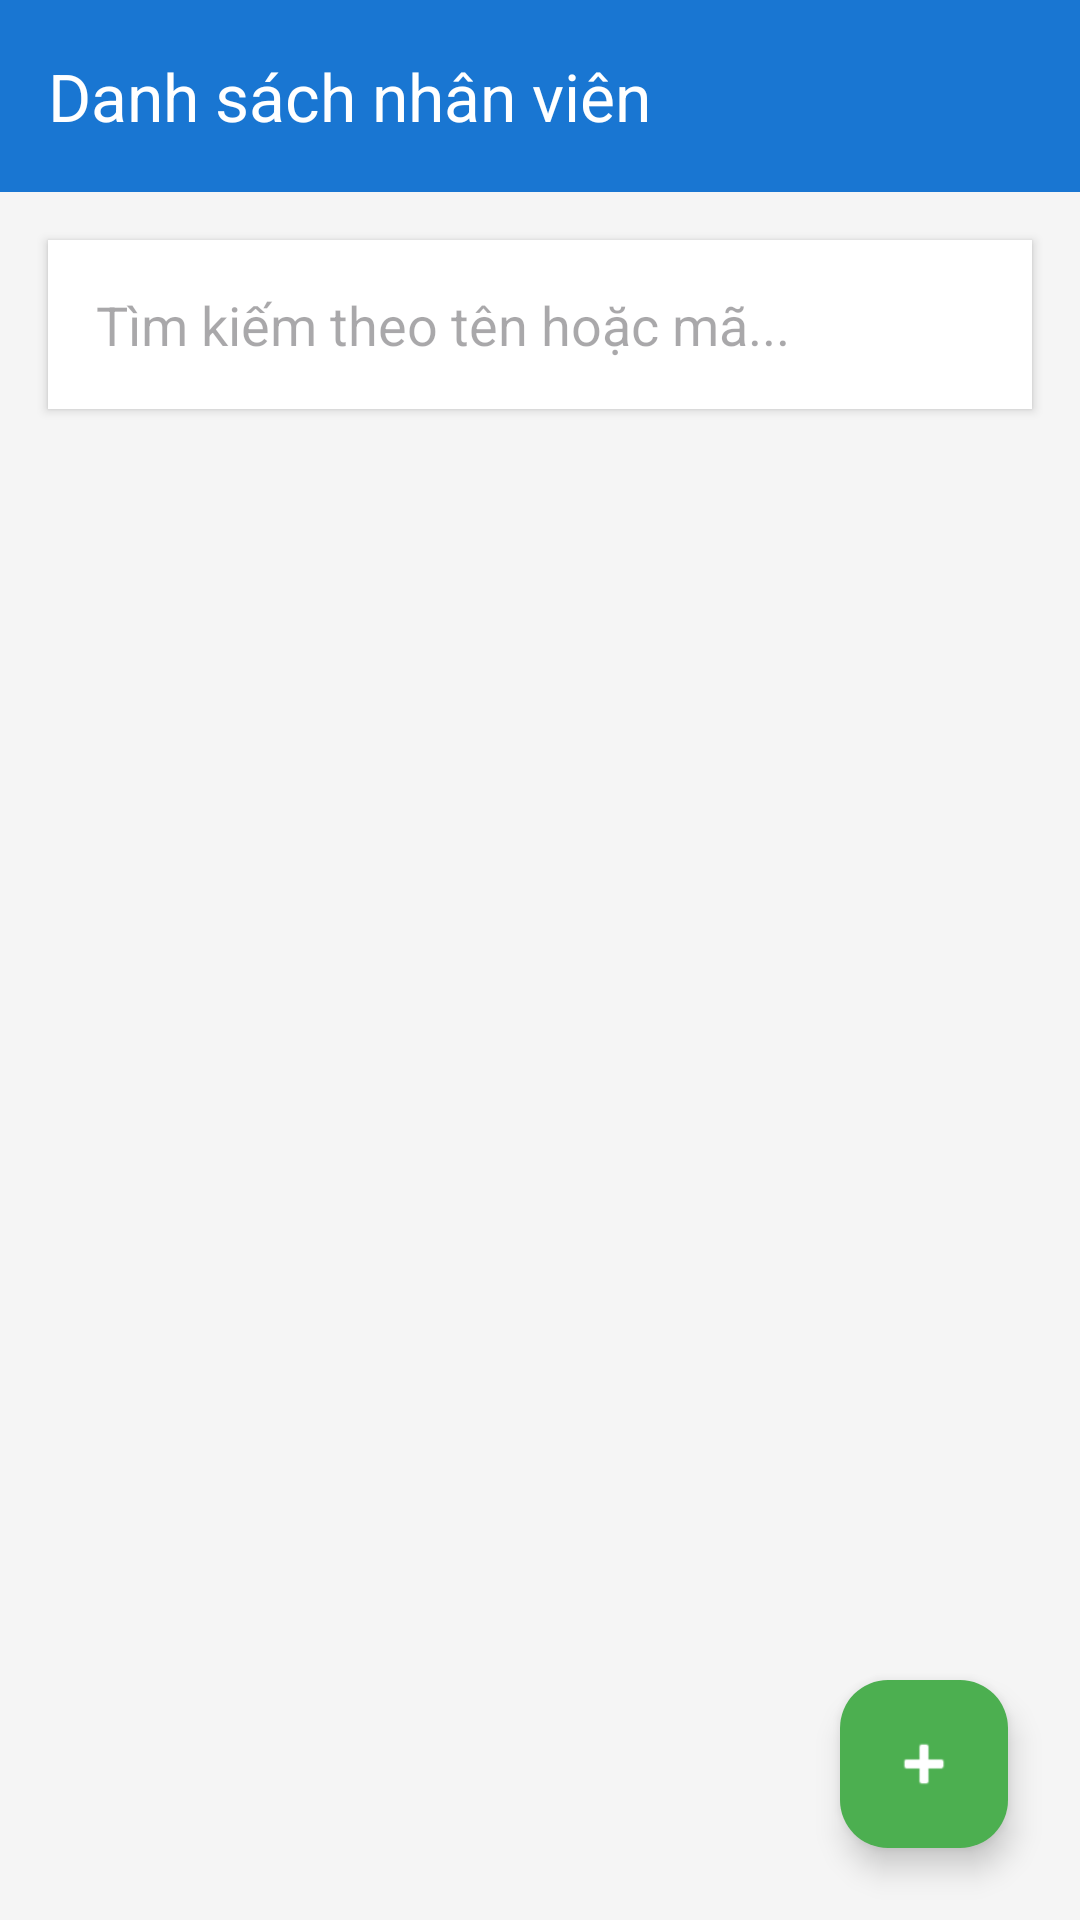

Screen size 1080*1920. Icon name, then its box in pixels as (x1, y1, x2, y2):
Thêm nhân viên: (840, 1680, 1008, 1848)
